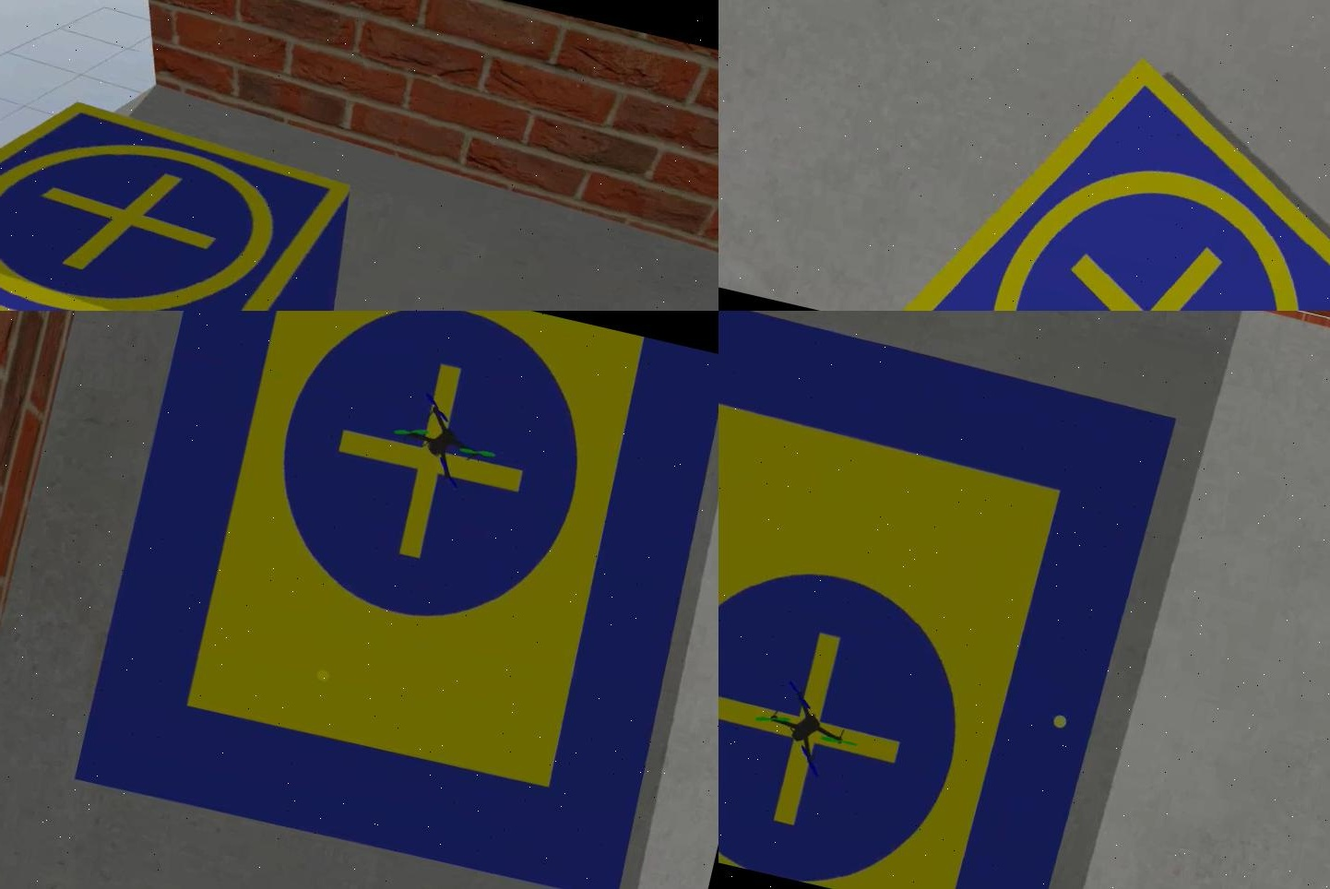large_base: (72, 312, 717, 889), (717, 312, 1176, 889)
small_base: (891, 13, 1328, 312), (0, 56, 362, 312)
